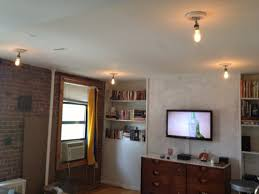bulb: (186, 25, 210, 49), (220, 66, 238, 86), (108, 75, 124, 92), (13, 56, 26, 69)
